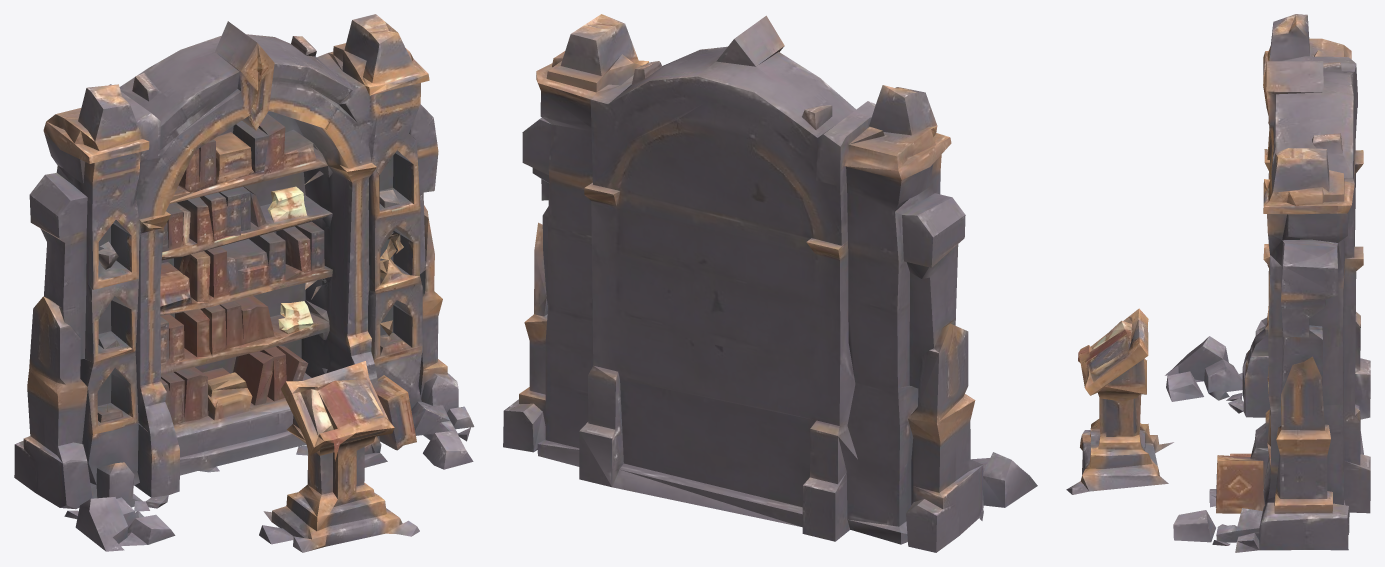
Rendered from hub_archive.glb.
The picture shows the model from 3 angles, left to right: view 1: azimuth 30°, elevation 25°; view 2: azimuth 150°, elevation 25°; view 3: azimuth 270°, elevation 25°; orthographic projection. The views are drawn at different scales.
Parts seen in each view (by area): view 1: body; view 2: body; view 3: body.
Part boxes in pixels (x1,y1,x2,y2): body: [14, 14, 474, 552]; body: [503, 14, 1037, 552]; body: [1066, 14, 1370, 552].
Bounding box in the file's own units: 3.45 × 3.5 × 2.38.
Materials: 1 (1 with a texture image).
